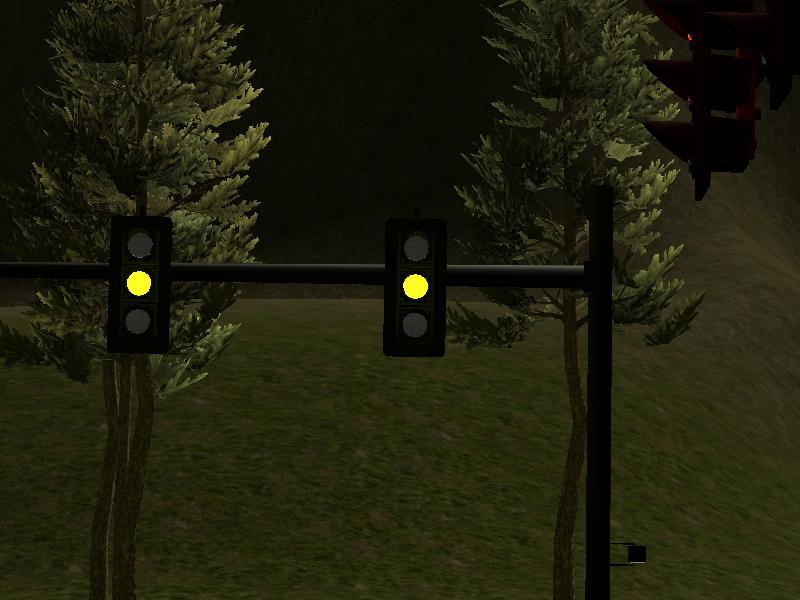Yellow: (383, 217, 448, 358), (108, 216, 171, 354)
